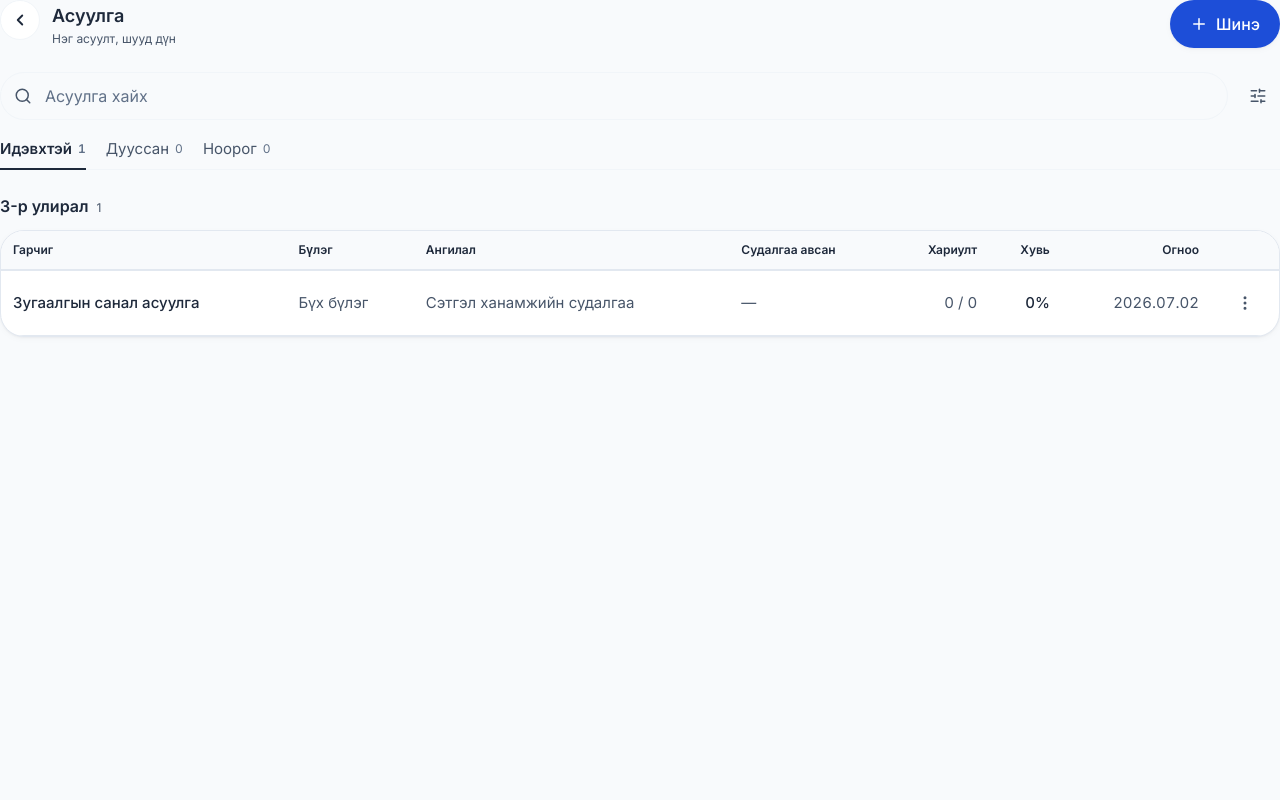
Test: the two boards › creates its own kind, without asking again
The width and height of the screenshot is (1280, 800).
Check: the link "Зугаалгын санал асуулга" is shown, box [13,293,199,312]
Click the button "Шинэ" at [1225, 24], box [1170,0,1279,48]
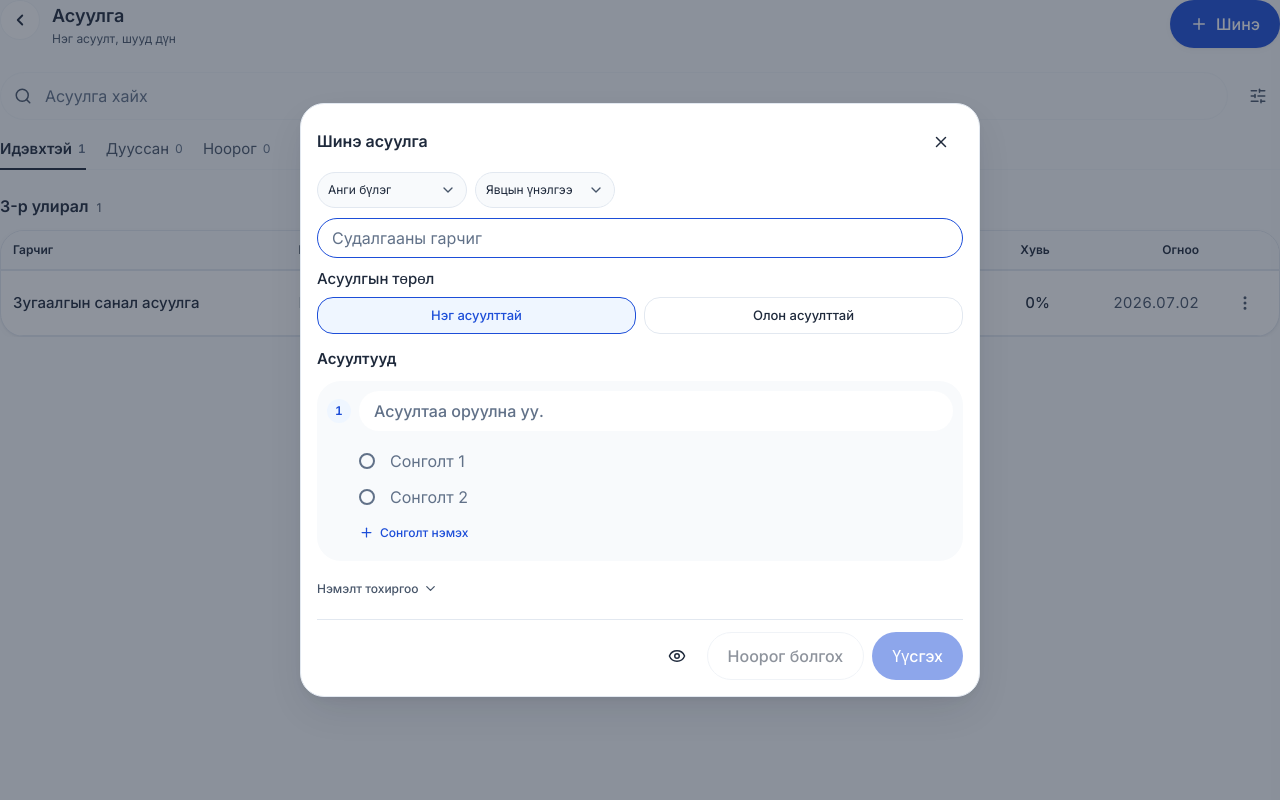
Check: the heading "Шинэ асуулга" is shown, box [317,132,428,152]
